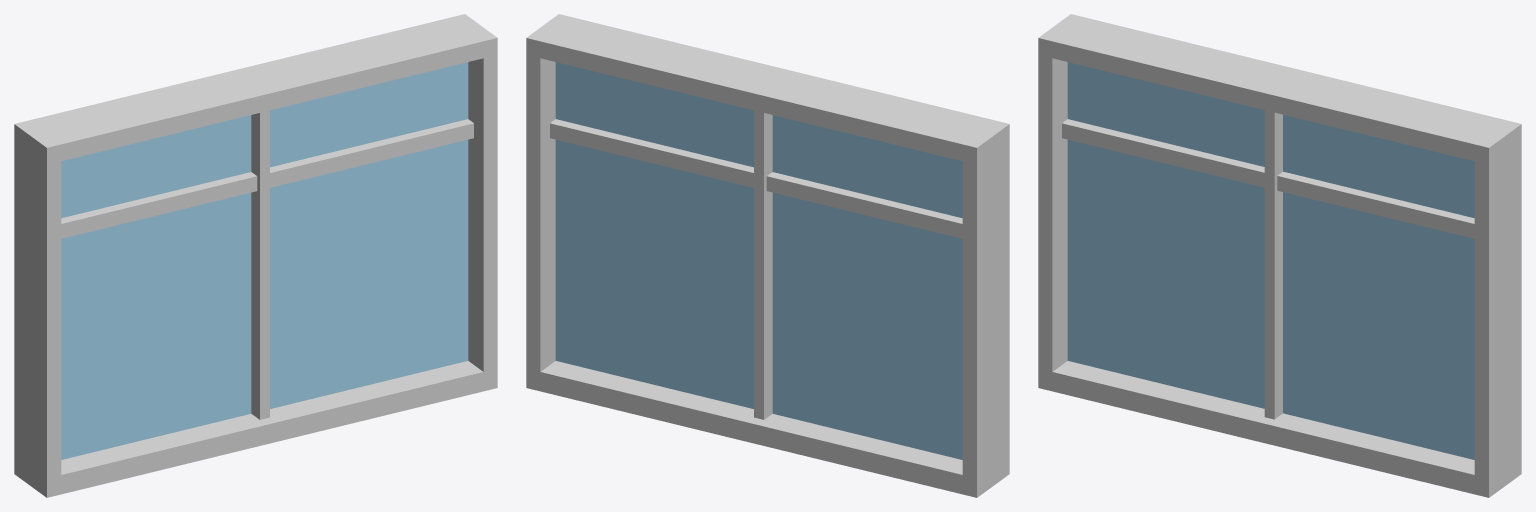
Rendered from window_019.glb.
3 renders of one model, left to right at view 1: azimuth 30°, elevation 25°; view 2: azimuth 150°, elevation 25°; view 3: azimuth 330°, elevation 25°, orthographic.
Parts seen in each view (by area): view 1: window_019; view 2: window_019; view 3: window_019.
Boxes of the visible parts, left/top/right/bottom form: window_019: left=14, top=14, right=497, bottom=497; window_019: left=526, top=14, right=1009, bottom=497; window_019: left=1038, top=14, right=1521, bottom=497.
Bounding box in the file's own units: 2.25 × 1.67 × 0.2828.
Materials: 1 (1 with a texture image).
